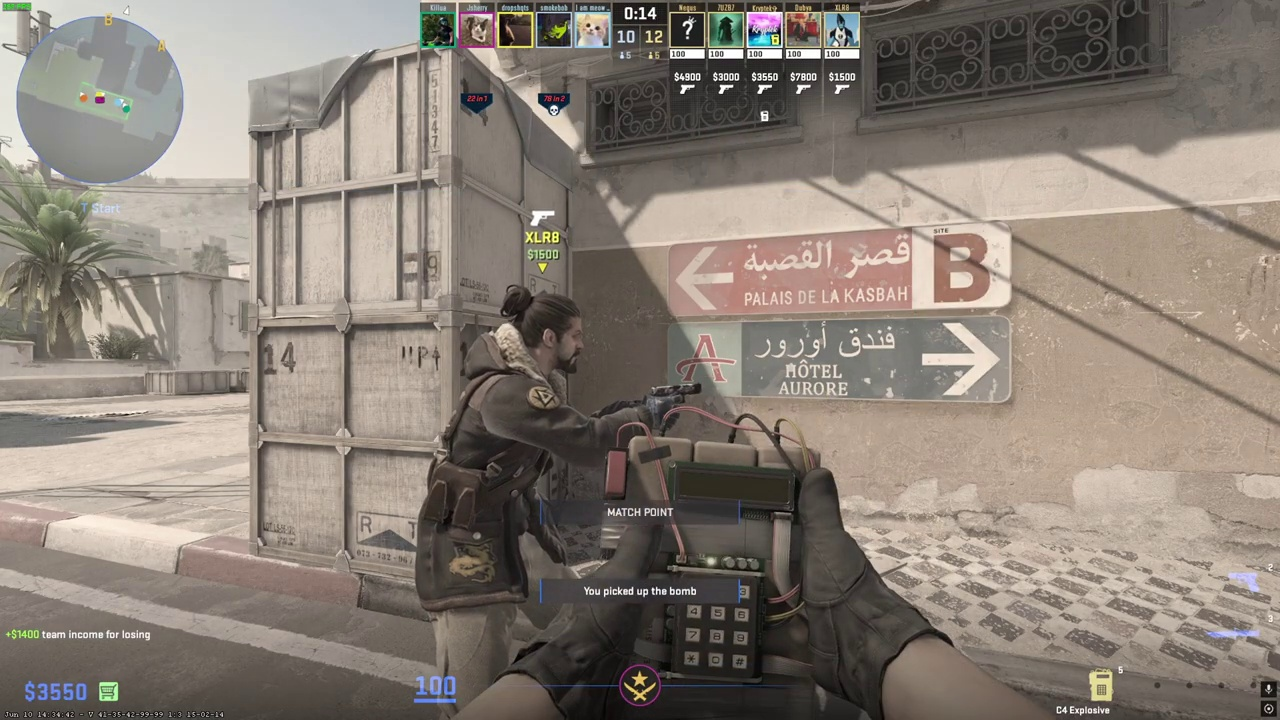Terrorist: (418, 292, 609, 689)
